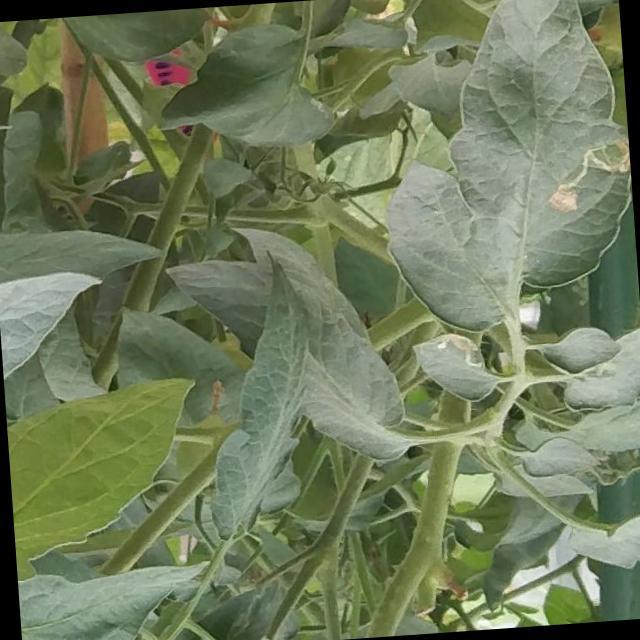Tomato target spot leaf: (365, 0, 640, 341), (410, 331, 493, 406)
